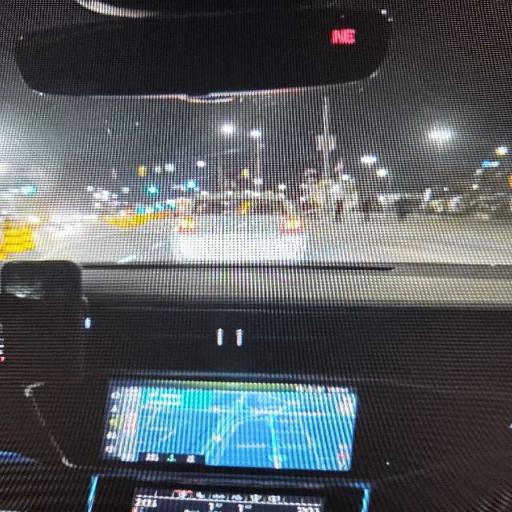car: (0, 0, 511, 511), (174, 194, 307, 263)
lane: (12, 217, 511, 264)
